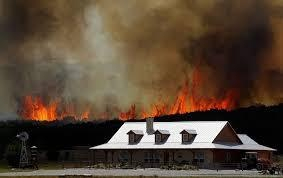fire: (116, 72, 233, 119), (21, 95, 94, 122)
